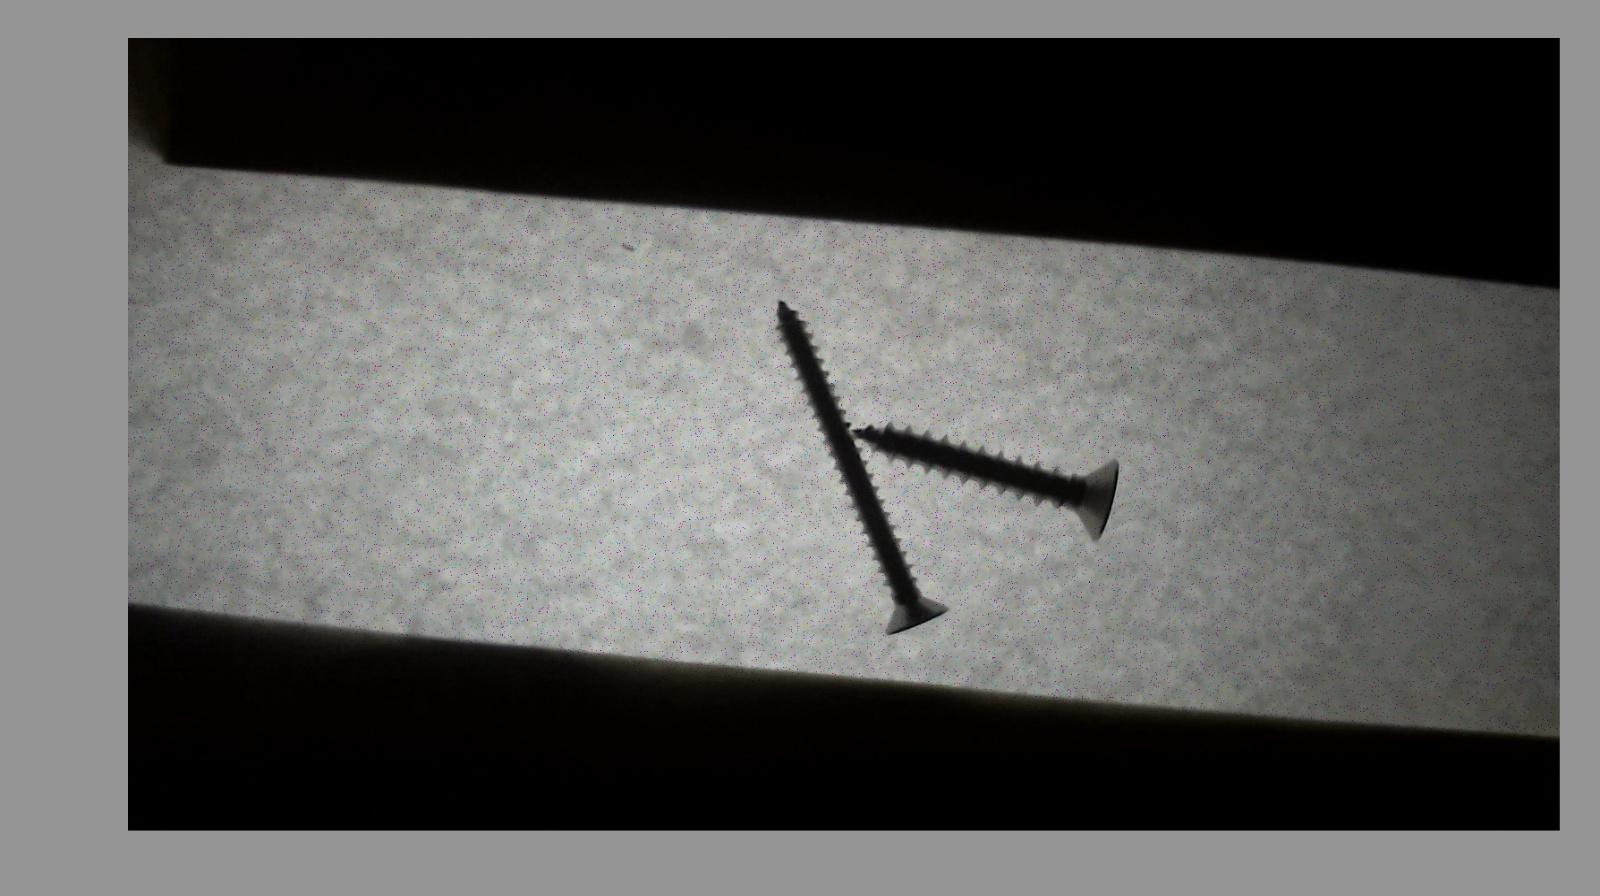S001: (838, 417, 1127, 547)
S002: (764, 285, 962, 641)
